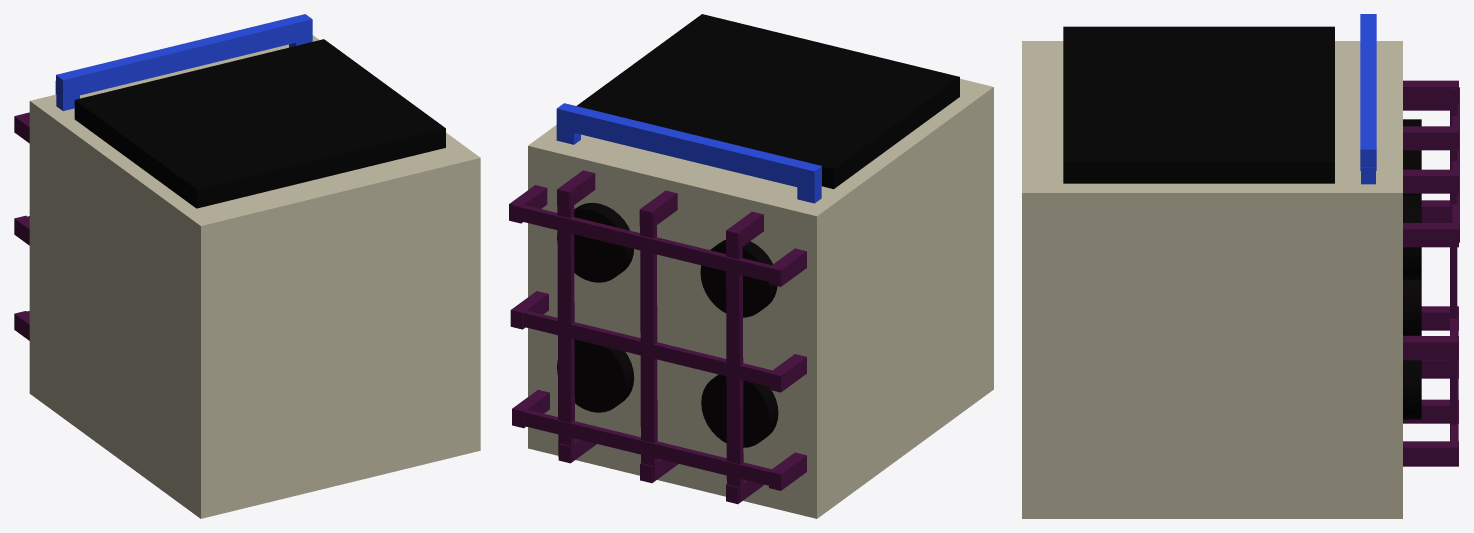
File: stove_.fbx
The picture shows the model from 3 angles, left to right: view 1: azimuth 30°, elevation 25°; view 2: azimuth 150°, elevation 25°; view 3: azimuth 270°, elevation 25°; orthographic projection. The views are drawn at different scales.
Parts seen in each view (by area): view 1: Cube, Куб.020, Куб.009; view 2: Cube, Куб.020, Куб.009, Куб.008, Куб.007, Куб.006, Куб.019, Куб.017, Цилиндр.002, Куб.018, Цилиндр.003, Цилиндр.001 (+10 smaller); view 3: Cube, Куб.020, Куб.009, Куб, Куб.004, Куб.005, Куб.019, Куб.014, Куб.015, Куб.016, Цилиндр.001, Цилиндр.002 (+6 smaller).
Part boxes in pixels (<box>): Cube: <box>29,35,480,518</box>; Куб.020: <box>74,39,445,208</box>; Куб.009: <box>56,14,312,99</box>; Cube: <box>528,78,993,518</box>; Куб.020: <box>577,14,959,189</box>; Куб.009: <box>556,103,821,191</box>; Куб.008: <box>512,205,779,284</box>; Куб.007: <box>524,410,771,485</box>; Куб.006: <box>523,310,771,386</box>; Куб.019: <box>557,190,574,460</box>; Куб.017: <box>640,211,657,480</box>; Цилиндр.002: <box>557,339,634,412</box>; Куб.018: <box>726,232,743,501</box>; Цилиндр.003: <box>701,374,778,447</box>; Цилиндр.001: <box>557,203,633,282</box>; Cube: <box>1022,41,1402,518</box>; Куб.020: <box>1063,26,1334,183</box>; Куб.009: <box>1360,14,1376,170</box>; Куб: <box>1403,336,1458,360</box>; Куб.004: <box>1403,223,1458,247</box>; Куб.005: <box>1403,441,1458,465</box>; Куб.019: <box>1450,177,1457,441</box>; Куб.014: <box>1403,126,1458,150</box>; Куб.015: <box>1403,80,1458,104</box>; Куб.016: <box>1403,169,1458,193</box>; Цилиндр.001: <box>1403,194,1421,279</box>; Цилиндр.002: <box>1403,334,1421,419</box>.
Bounding box in the file's own units: 136 × 151 × 166.
